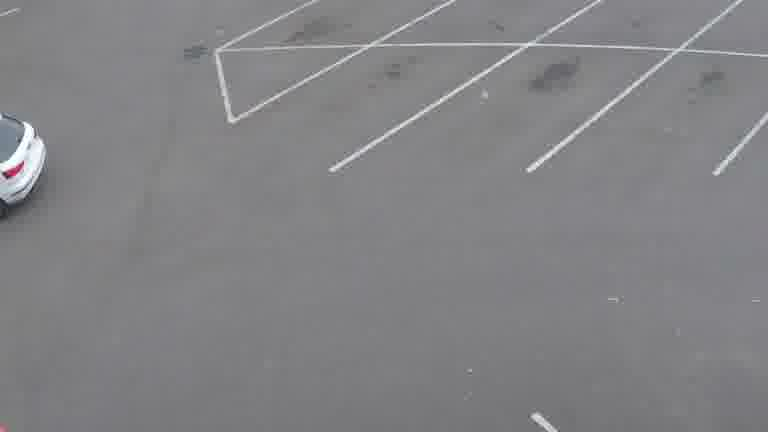person: (0, 112, 47, 220)
